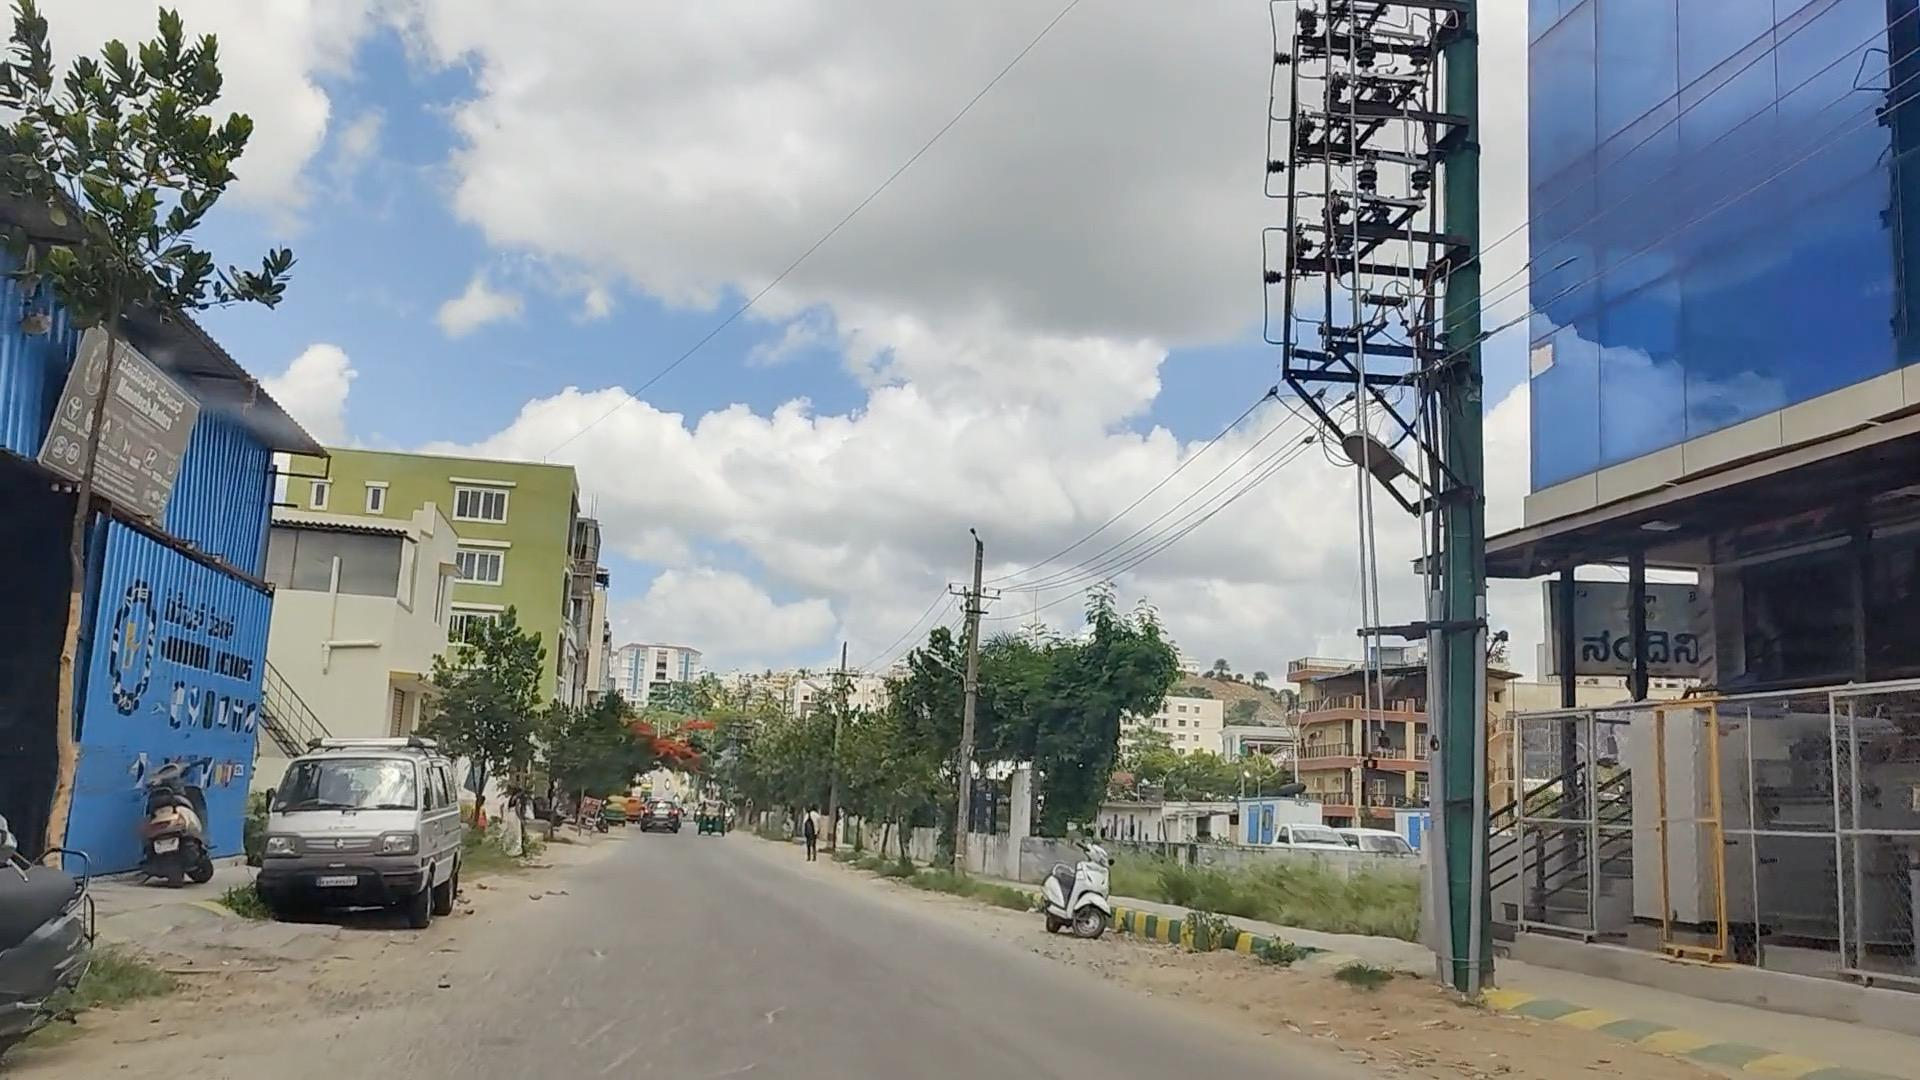LMV: (277, 732, 460, 910), (1010, 832, 1145, 938)
